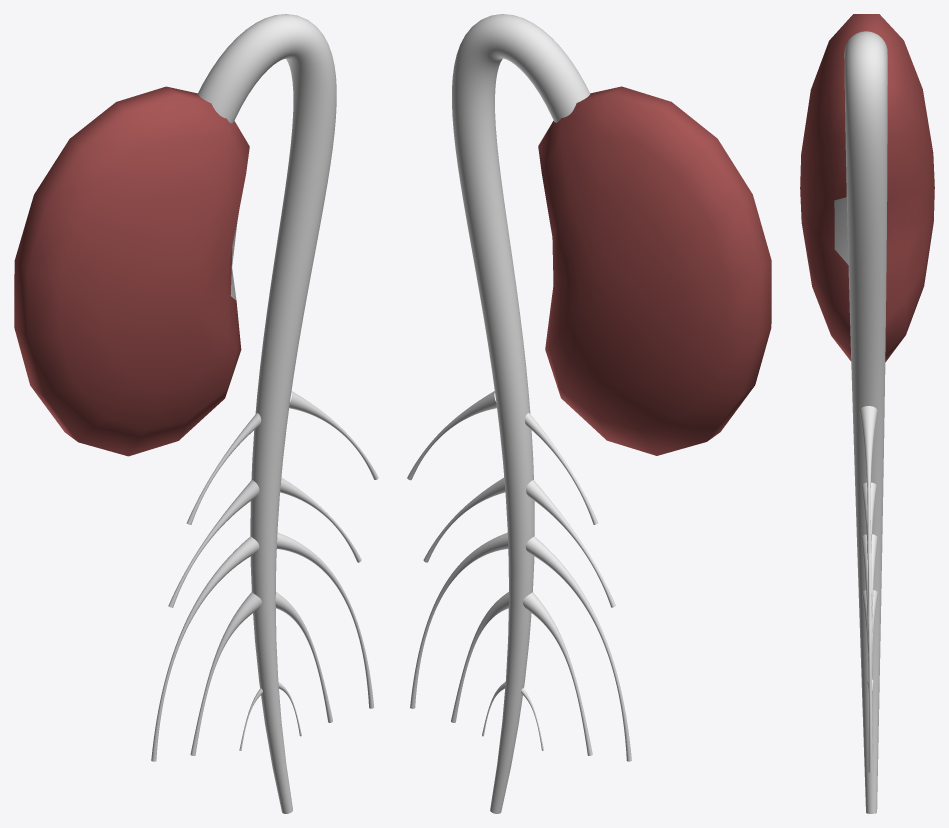
The model's file is Frijol_2.glb.
The picture shows the model from 3 angles, left to right: view 1: azimuth 30°, elevation 25°; view 2: azimuth 150°, elevation 25°; view 3: azimuth 270°, elevation 25°; orthographic projection. The views are drawn at different scales.
Visible parts, largest first — view 1: Frijol_etapa_3.001, raiz_principal.001, raiz_secundaria_3.001, raiz_secundaria_4.001, raiz_secundaria_2.001, raiz_secundaria_1.001; view 2: Frijol_etapa_3.001, raiz_principal.001, raiz_secundaria_3.001, raiz_secundaria_4.001, raiz_secundaria_2.001, raiz_secundaria_1.001; view 3: Frijol_etapa_3.001, raiz_principal.001, raiz_secundaria_3.001, raiz_secundaria_1.001, raiz_secundaria_2.001, raiz_secundaria_4.001.
Boxes of the visible parts, x1,y1,x2,y2 form: Frijol_etapa_3.001: (14,86,249,456); raiz_principal.001: (198,14,336,813); raiz_secundaria_3.001: (151,533,374,761); raiz_secundaria_4.001: (190,592,332,755); raiz_secundaria_2.001: (168,477,361,607); raiz_secundaria_1.001: (186,391,378,524); Frijol_etapa_3.001: (538,86,771,455); raiz_principal.001: (452,14,590,813); raiz_secundaria_3.001: (410,532,631,761); raiz_secundaria_4.001: (451,592,592,755); raiz_secundaria_2.001: (423,477,615,607); raiz_secundaria_1.001: (407,391,597,524); Frijol_etapa_3.001: (800,14,934,362); raiz_principal.001: (844,31,887,813); raiz_secundaria_3.001: (861,534,877,772); raiz_secundaria_1.001: (859,406,877,553); raiz_secundaria_2.001: (861,482,876,621); raiz_secundaria_4.001: (862,590,877,756).
Bounding box in the file's own units: 0.5379 × 1.15 × 0.1818.
